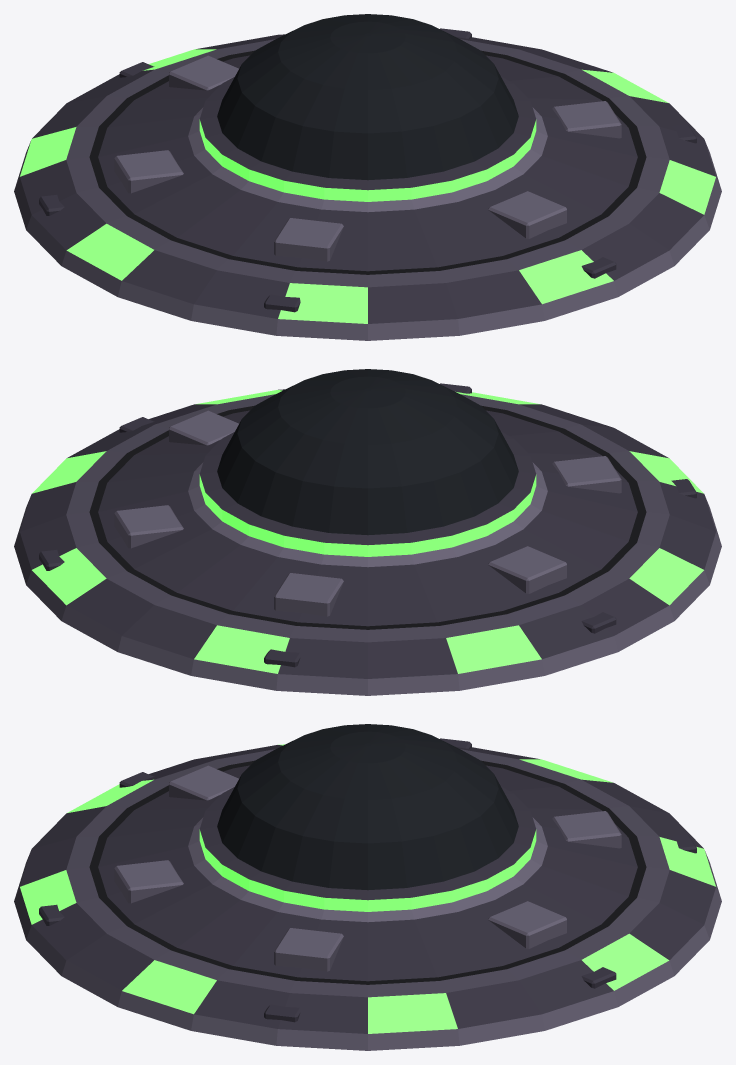
Rendered from alien-saucer.glb.
3 renders of one model, top to bottom at view 1: azimuth 30°, elevation 25°; view 2: azimuth 150°, elevation 25°; view 3: azimuth 270°, elevation 25°, orthographic.
Parts seen in each view (by area): view 1: Alien1; view 2: Alien1; view 3: Alien1.
Part boxes in pixels (x1,y1,x2,y2): Alien1: (14, 14, 721, 340); Alien1: (14, 369, 721, 695); Alien1: (14, 724, 721, 1050).
Size of the model in its own units: 2.44 by 0.905 by 2.44.
